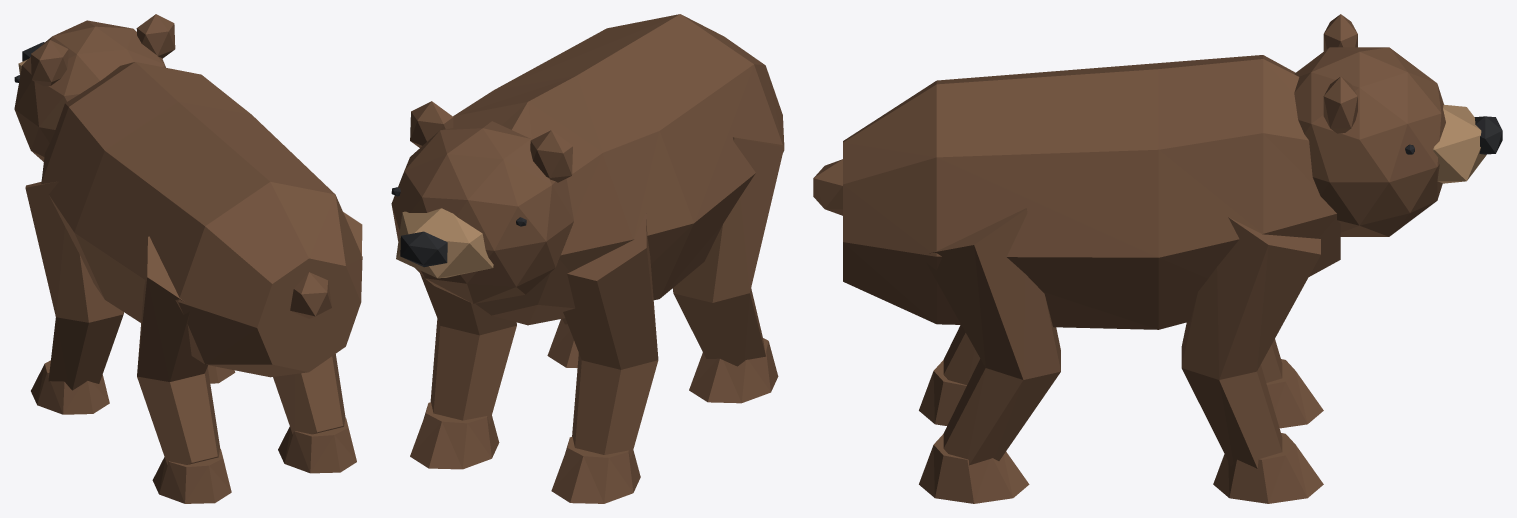
Rendered from brown_bear.fbx.
3 views of the same model, side by side, from view 1: azimuth 30°, elevation 25°; view 2: azimuth 150°, elevation 25°; view 3: azimuth 270°, elevation 25° (orthographic). The views are drawn at different scales.
Visible parts, largest first — view 1: bear; view 2: bear; view 3: bear.
Boxes of the visible parts, x1,y1,x2,y2 form: bear: [14, 14, 362, 503]; bear: [391, 14, 784, 503]; bear: [813, 14, 1502, 503].
Bounding box in the file's own units: 0.91 × 1.35 × 2.09.
